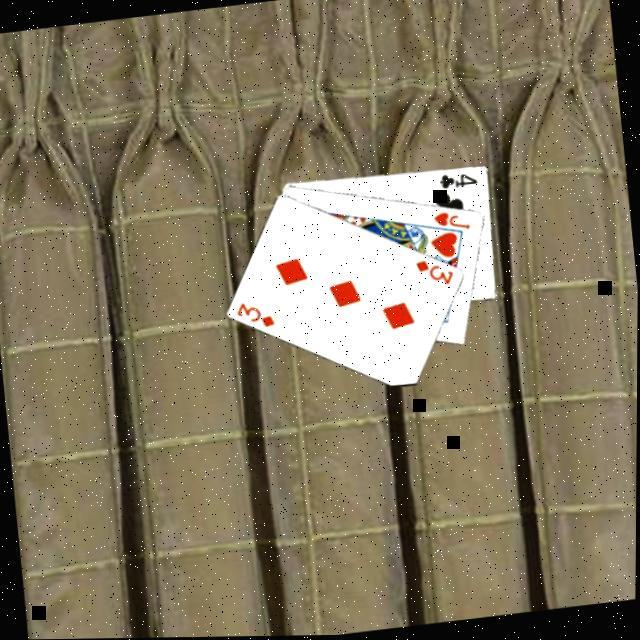3D: (410, 253, 455, 292), (231, 294, 276, 331)
4C: (434, 167, 478, 192)
JH: (429, 205, 471, 235)
